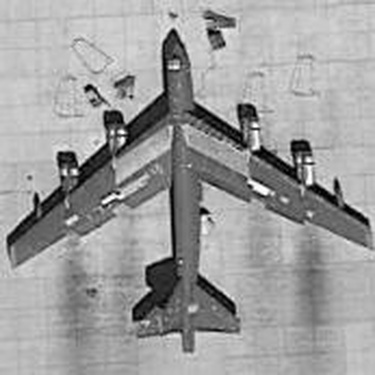airplane: (3, 26, 371, 359)
